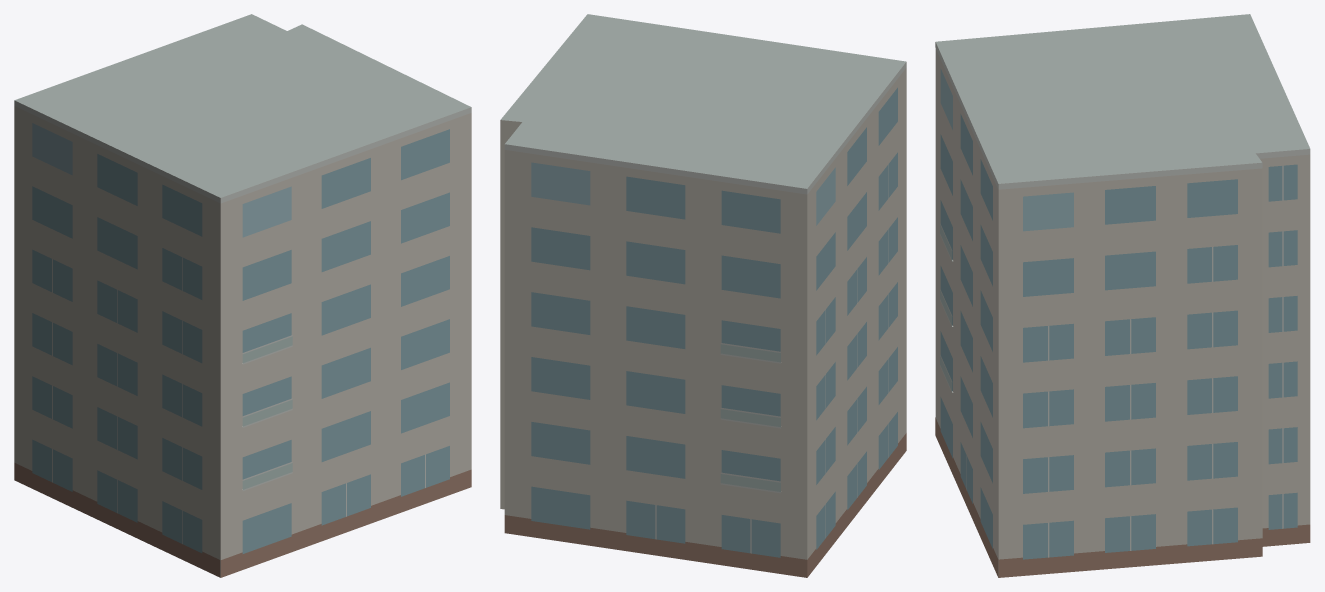
Rendered from survey-upis-32981799.glb.
3 renders of one model, left to right at view 1: azimuth 30°, elevation 25°; view 2: azimuth 150°, elevation 25°; view 3: azimuth 270°, elevation 25°, orthographic. The views are drawn at different scales.
Visible parts, largest first — view 1: survey-upis-32981799.tmp; view 2: survey-upis-32981799.tmp; view 3: survey-upis-32981799.tmp.
Part boxes in pixels (x1,y1,x2,y2): survey-upis-32981799.tmp: (14, 14, 471, 577); survey-upis-32981799.tmp: (500, 14, 906, 577); survey-upis-32981799.tmp: (935, 14, 1310, 577).
Size of the model in its own units: 15.47 by 16.7 by 14.42.
